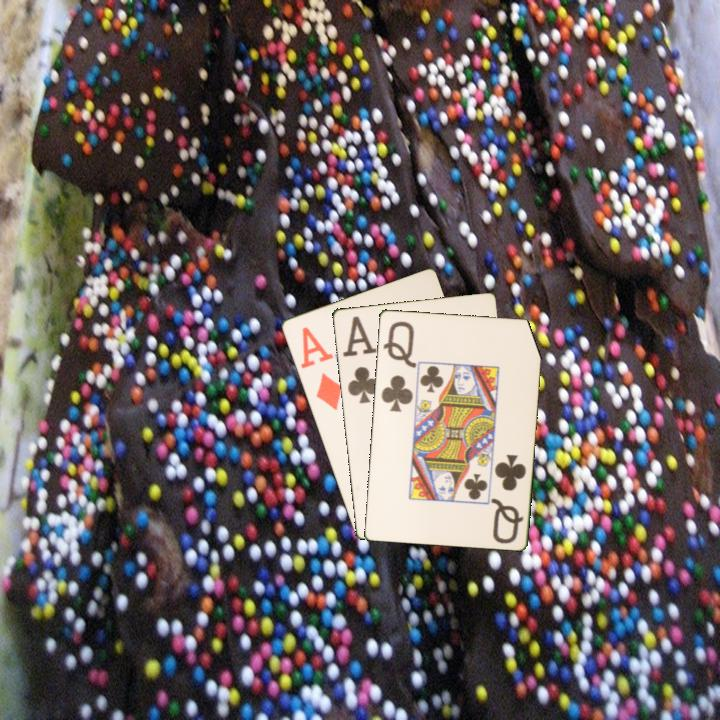Ac: (339, 312, 382, 406)
Ad: (297, 323, 346, 413)
Qc: (377, 317, 418, 415), (488, 451, 529, 546)
